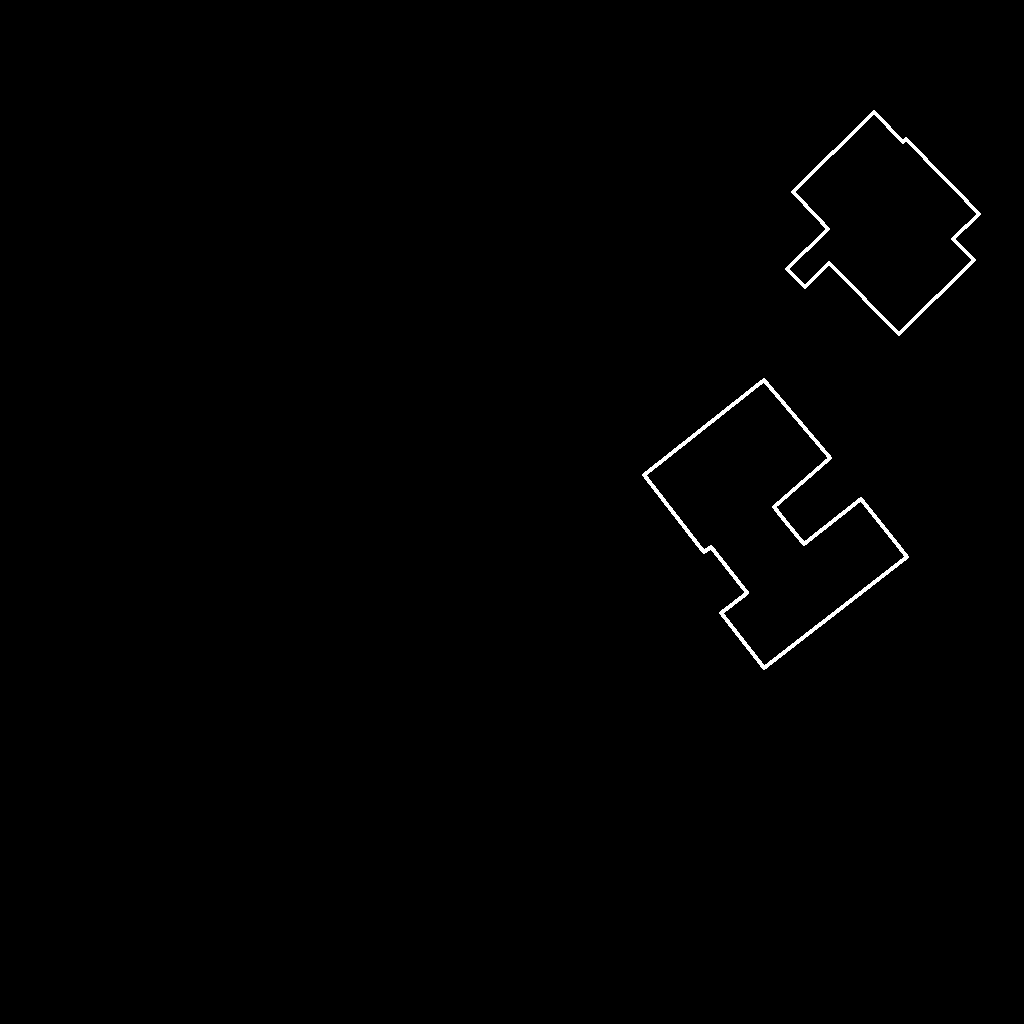building: (644, 380, 908, 669), (787, 112, 980, 335)
